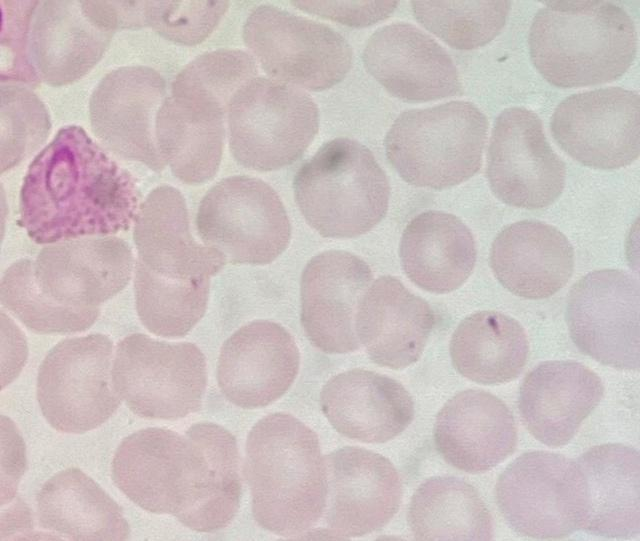Infected: (19, 127, 140, 241)
Uninfected: (112, 419, 243, 530), (239, 412, 330, 534), (294, 136, 394, 241), (241, 6, 352, 93), (25, 233, 132, 323), (528, 3, 637, 90), (384, 101, 488, 192), (132, 184, 226, 283), (110, 331, 210, 422), (36, 334, 124, 435), (223, 80, 319, 172), (196, 176, 293, 266), (361, 22, 463, 106), (297, 250, 380, 353), (89, 65, 171, 169), (485, 106, 567, 209), (563, 269, 638, 372), (350, 276, 434, 367), (497, 452, 588, 536), (26, 1, 113, 88), (550, 87, 640, 171), (155, 85, 232, 183), (215, 321, 299, 409), (319, 368, 412, 445), (316, 450, 399, 535), (433, 389, 517, 472), (133, 257, 216, 340), (519, 360, 599, 446), (490, 219, 573, 300), (399, 210, 477, 292), (572, 444, 637, 537), (451, 309, 529, 383), (173, 49, 260, 110)
